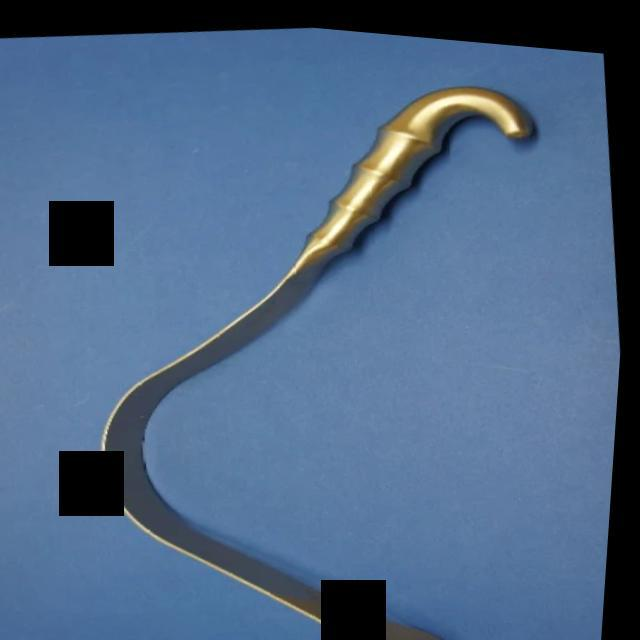Hrrington retractor: (36, 34, 606, 640)
